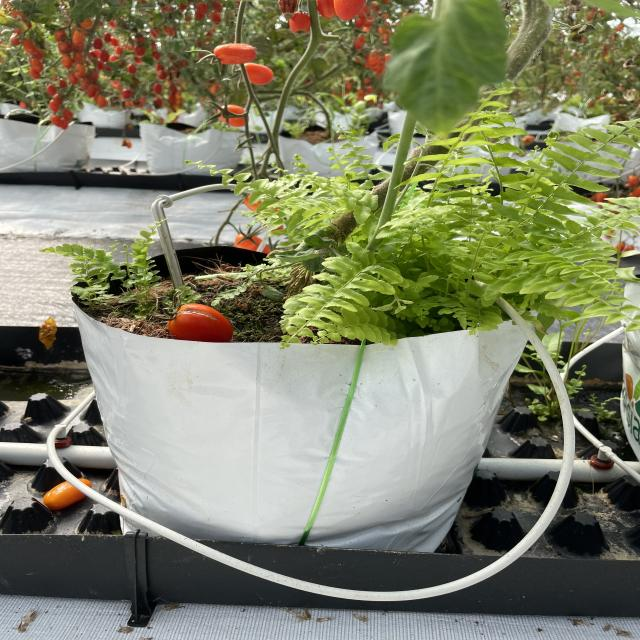Obstacle: (459, 271, 565, 392), (152, 185, 257, 297)
Soilbag: (76, 310, 539, 550)
Tomato: (168, 302, 231, 341)
plant: (156, 22, 558, 317)
